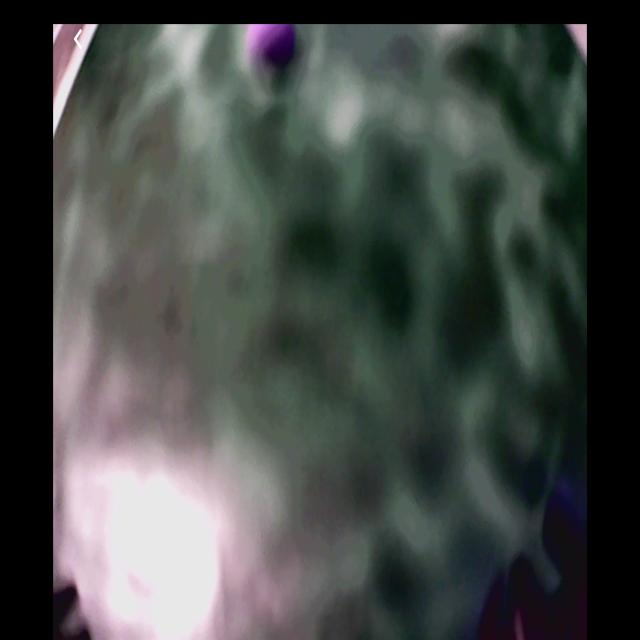ball: (249, 25, 300, 76)
